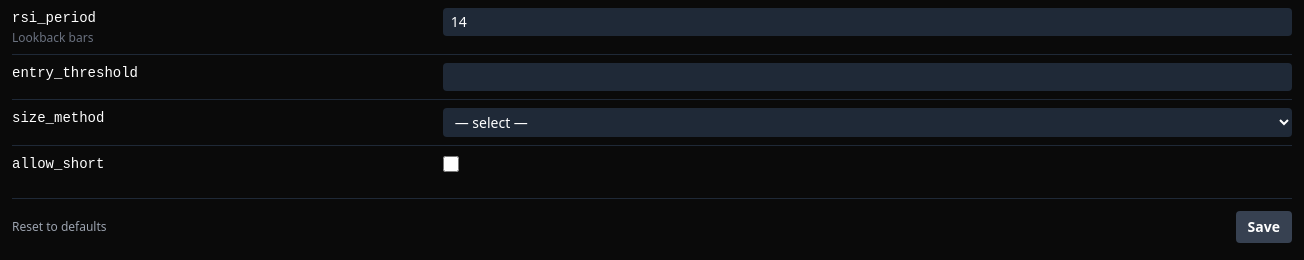
Test case: ParamForm › shows 'Unsaved changes' after editing a field
The image size is (1304, 260).
Step 1. Replace the text in the number field showing "14" in the row of "rsi_period" with "20" → (867, 22), box [443,8,1292,36]
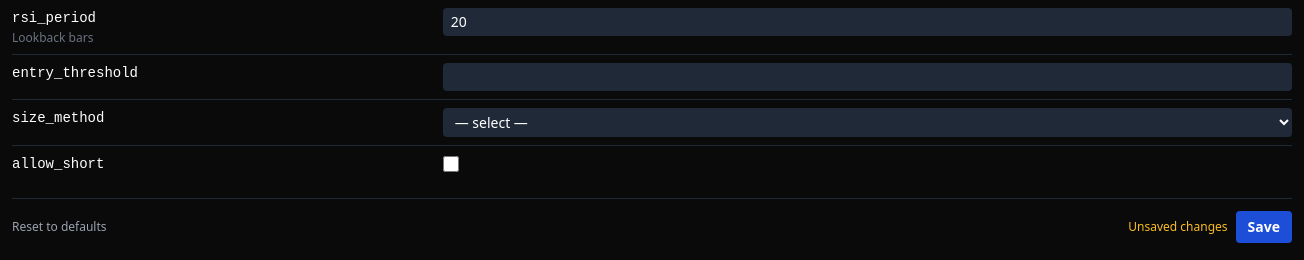
Check: the text "Unsaved changes" is shown, box [1128,219,1228,235]
